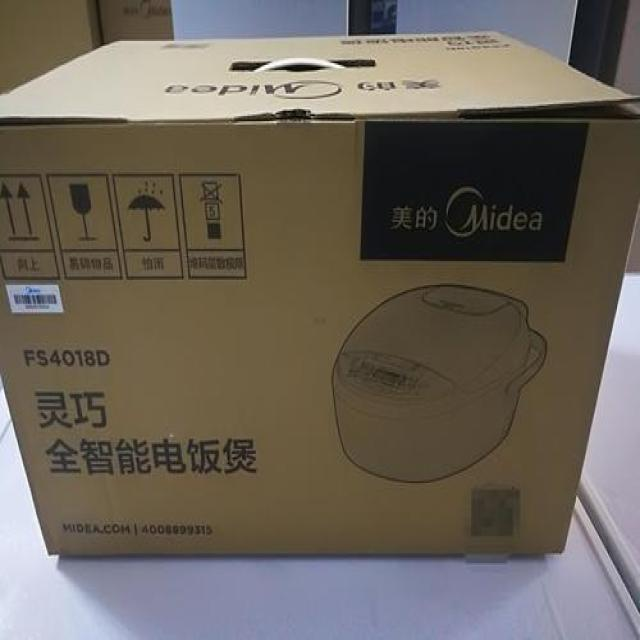cardboard: (0, 39, 636, 562)
